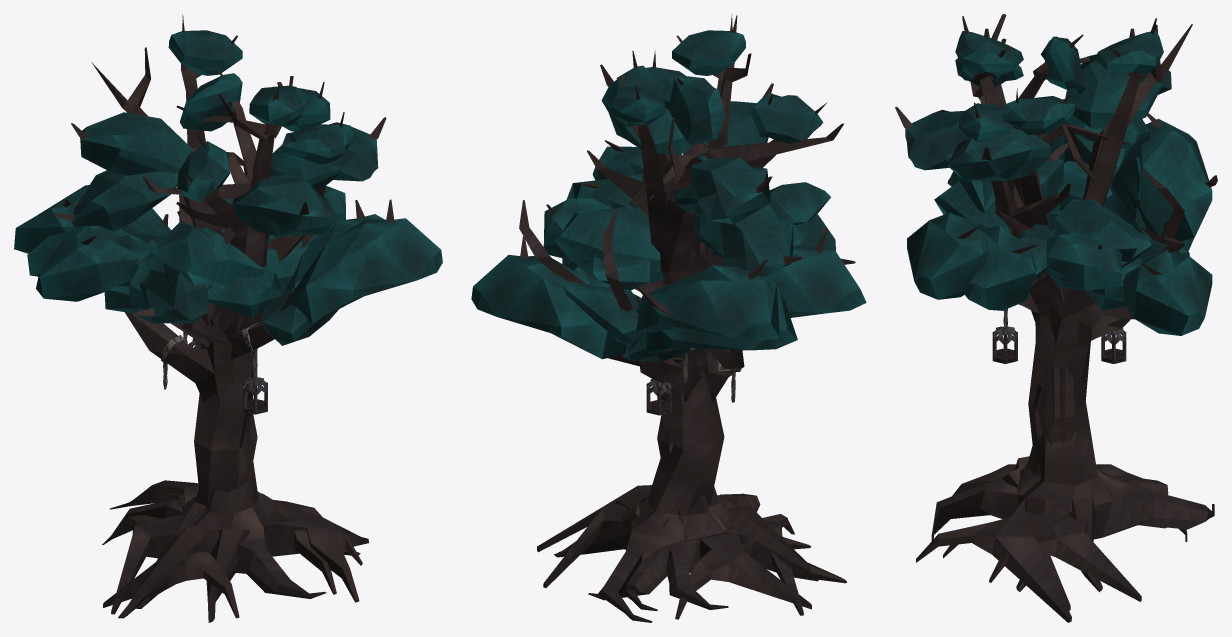
The model's file is twees.gltf.
3 renders of one model, left to right at view 1: azimuth 30°, elevation 25°; view 2: azimuth 150°, elevation 25°; view 3: azimuth 270°, elevation 25°, orthographic.
Visible parts, largest first — view 1: twee_4, twee_9, twee_10, twee_6, twee_5, twee_1, twee_7, twee_2, twee_8; view 2: twee_9, twee_4, twee_1, twee_5, twee_2, twee_10, twee_7, twee_6, twee_8, twee_3; view 3: twee_9, twee_4, twee_10, twee_2, twee_5, twee_1, twee_7, twee_6, twee_8, twee_3.
Part boxes in pixels (left/top/right/bottom): twee_4: left=71, top=14, right=442, bottom=614; twee_9: left=27, top=61, right=386, bottom=618; twee_10: left=36, top=112, right=362, bottom=622; twee_6: left=125, top=82, right=339, bottom=402; twee_5: left=104, top=134, right=319, bottom=348; twee_1: left=103, top=76, right=360, bottom=618; twee_7: left=52, top=47, right=384, bottom=300; twee_2: left=14, top=86, right=336, bottom=608; twee_8: left=171, top=152, right=267, bottom=349; twee_9: left=537, top=64, right=846, bottom=622; twee_4: left=554, top=76, right=811, bottom=619; twee_1: left=519, top=14, right=844, bottom=615; twee_5: left=471, top=93, right=855, bottom=374; twee_2: left=561, top=15, right=818, bottom=610; twee_10: left=543, top=50, right=866, bottom=609; twee_7: left=566, top=117, right=827, bottom=276; twee_6: left=574, top=51, right=773, bottom=402; twee_8: left=602, top=154, right=709, bottom=402; twee_3: left=646, top=379, right=671, bottom=415; twee_9: left=916, top=34, right=1214, bottom=622; twee_4: left=907, top=18, right=1171, bottom=592; twee_10: left=934, top=94, right=1168, bottom=601; twee_2: left=943, top=14, right=1212, bottom=610; twee_5: left=947, top=38, right=1212, bottom=335; twee_1: left=952, top=18, right=1189, bottom=591; twee_7: left=963, top=24, right=1192, bottom=310; twee_6: left=895, top=88, right=1217, bottom=340; twee_8: left=1038, top=123, right=1184, bottom=340; twee_3: left=1101, top=328, right=1126, bottom=363.
Size of the model in its own units: 2.92 by 4.38 by 2.4.
1 material, 1 textured.
